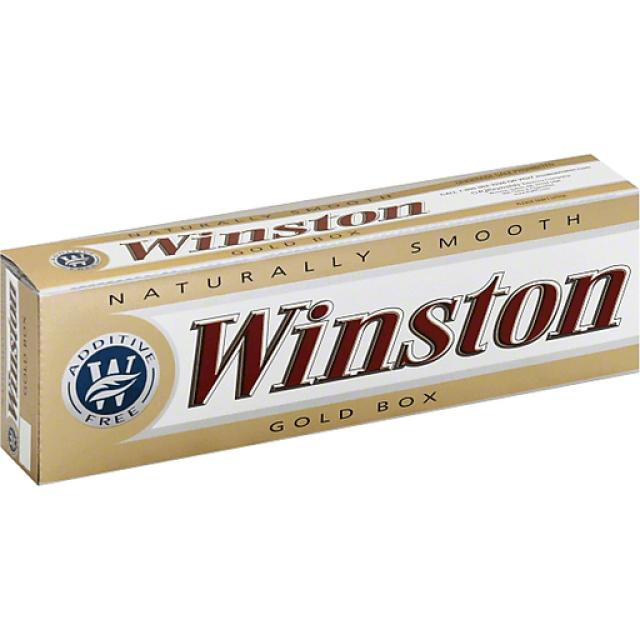winston: (6, 148, 640, 504)
